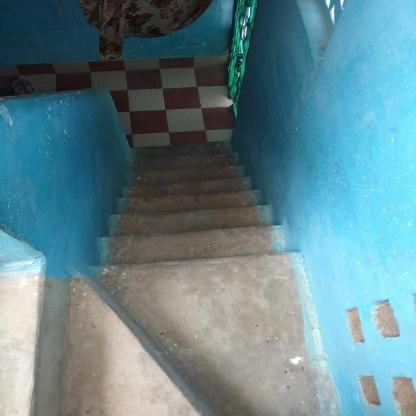stair: (102, 117, 290, 416)
